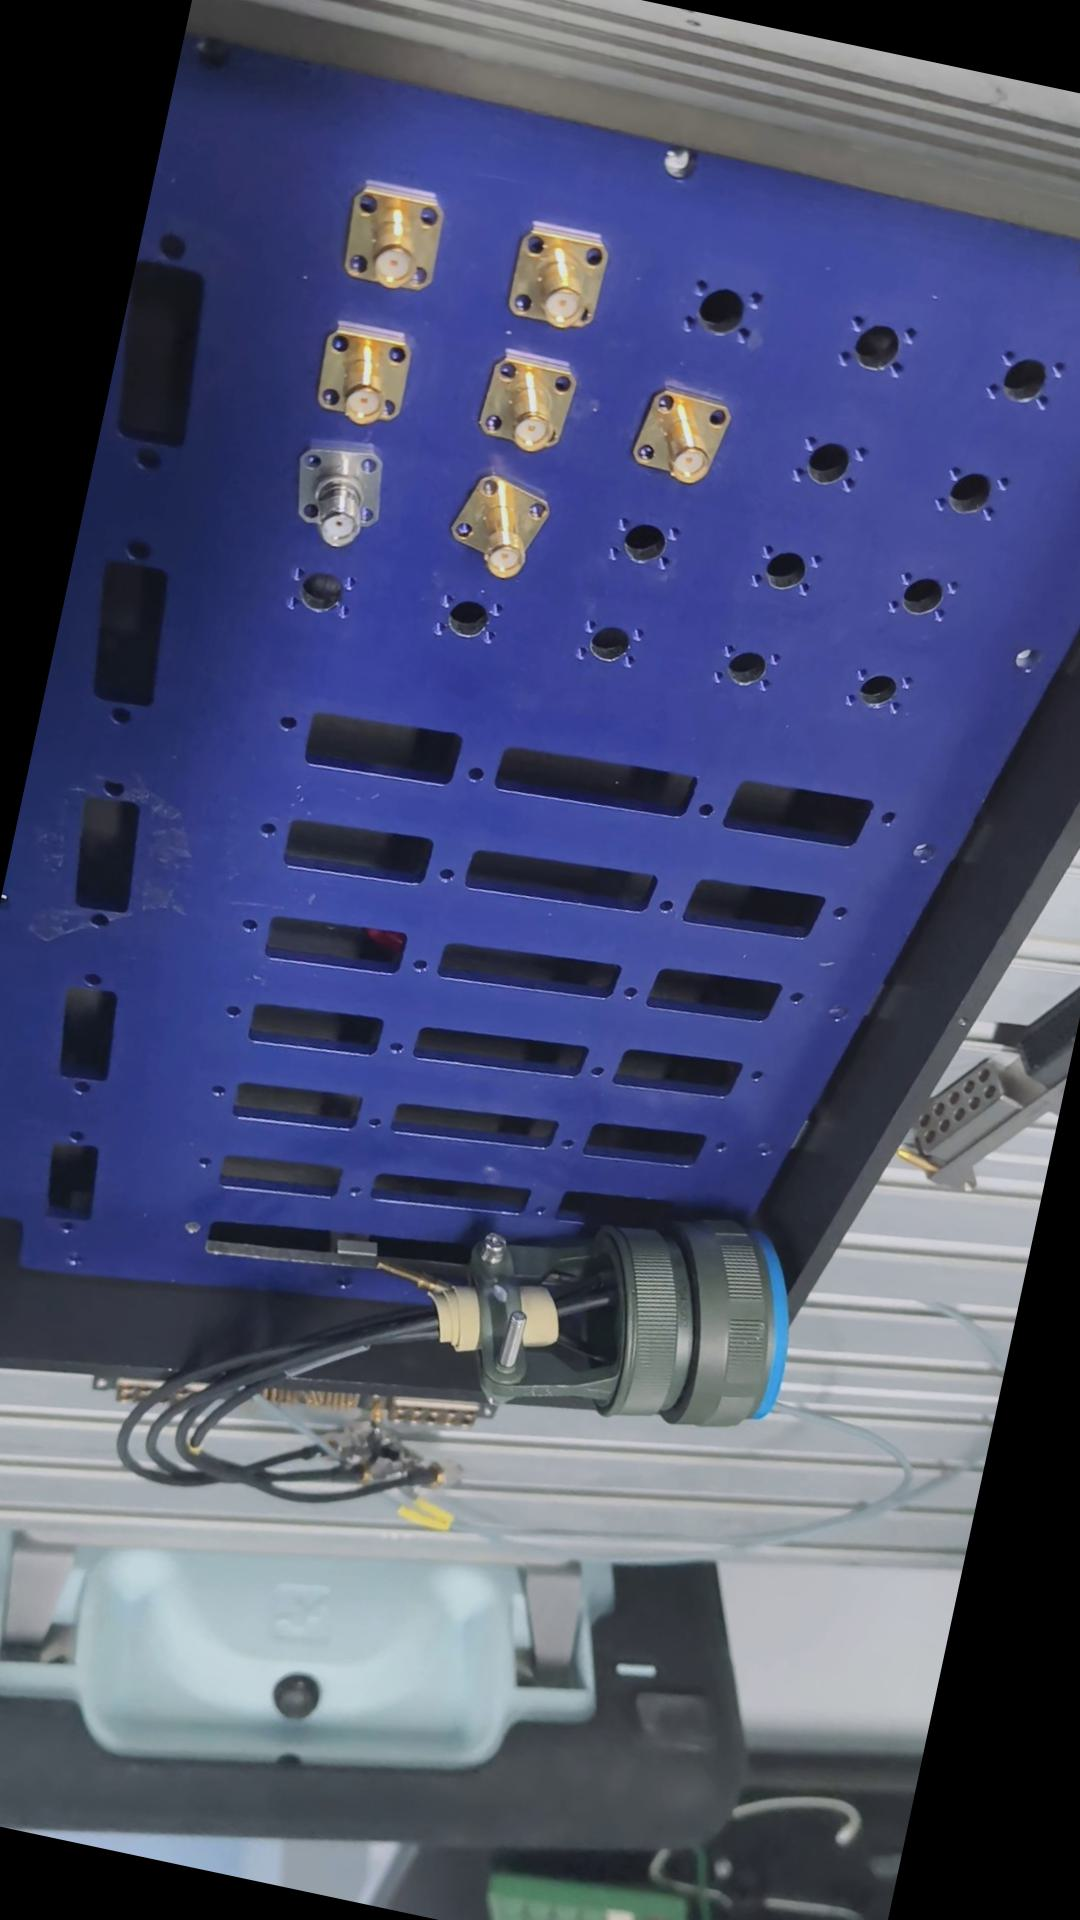SMA: (338, 173, 460, 306), (280, 433, 397, 553), (502, 216, 618, 338), (452, 465, 562, 585), (314, 319, 419, 427), (634, 378, 735, 491), (485, 351, 582, 459)
